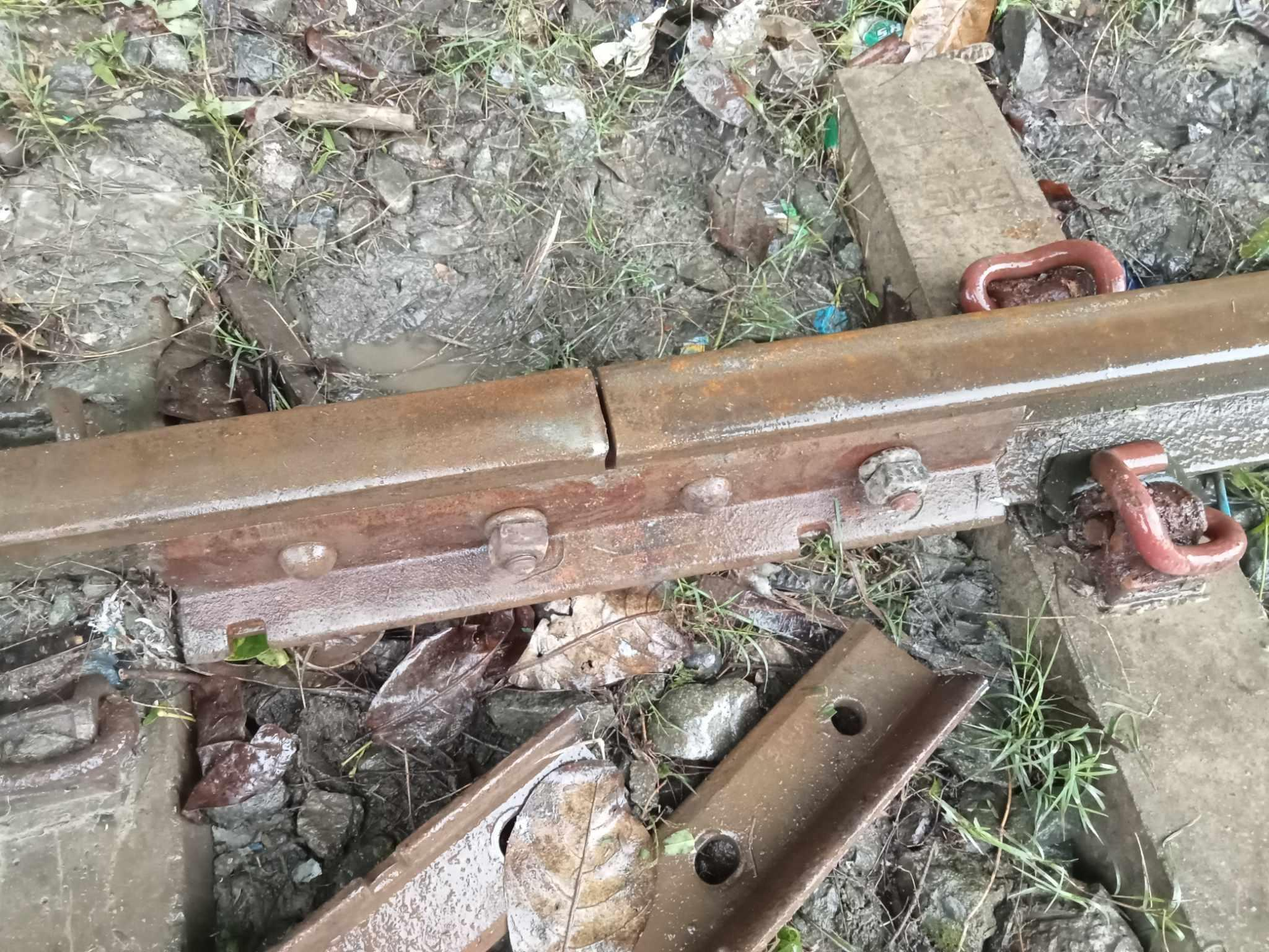railway-gap: (524, 332, 688, 498)
